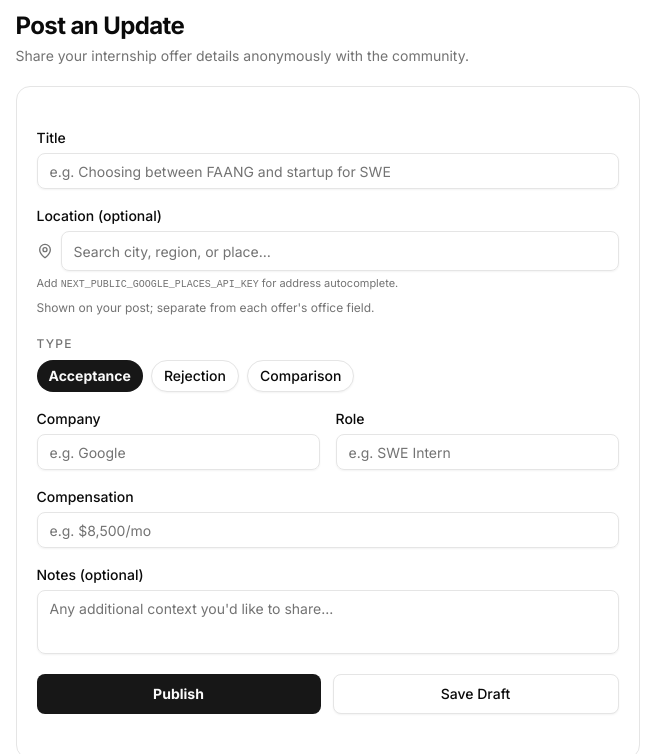
SubmitOfferForm › shows validation error when title is missing (Save Draft)
The image size is (657, 754).
Click the button "Save Draft": (476, 694) [332,674,618,714]
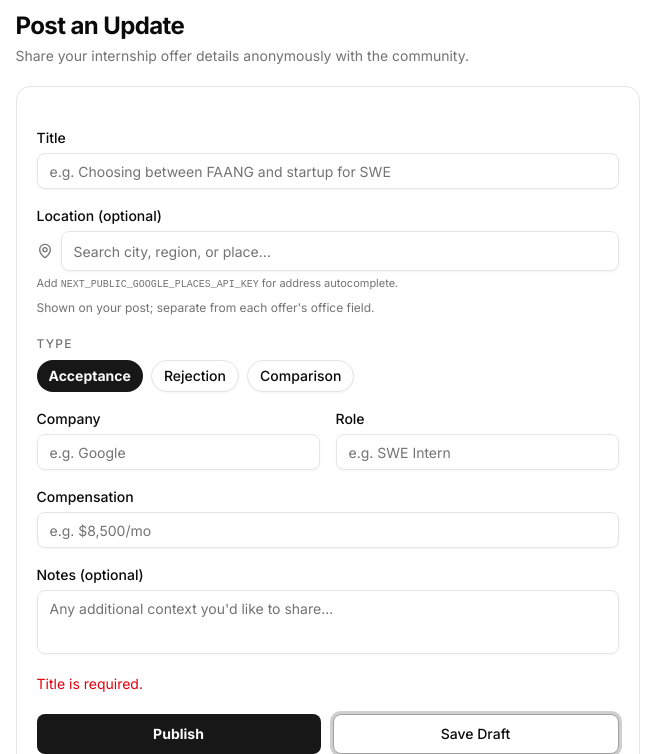
Now the text "Title is required." is shown, box [36,675,143,692]
